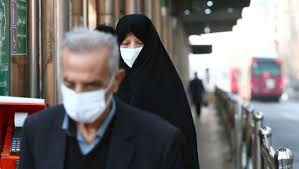mask: (58, 83, 105, 121), (120, 48, 143, 67)
